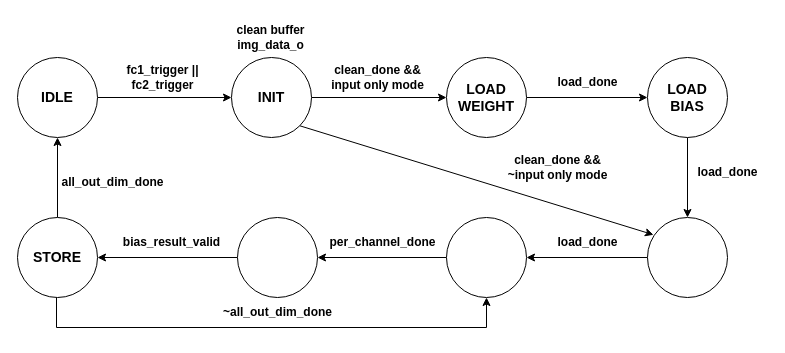
This 785x353 diagram has some shape labels left out. Here are the shapes that lost their labels. From the top down, the centre of each, then its label:
At point 277,257: "ADD".
At point 486,257: "MUL".
At point 687,257: "LOAD IMG".
